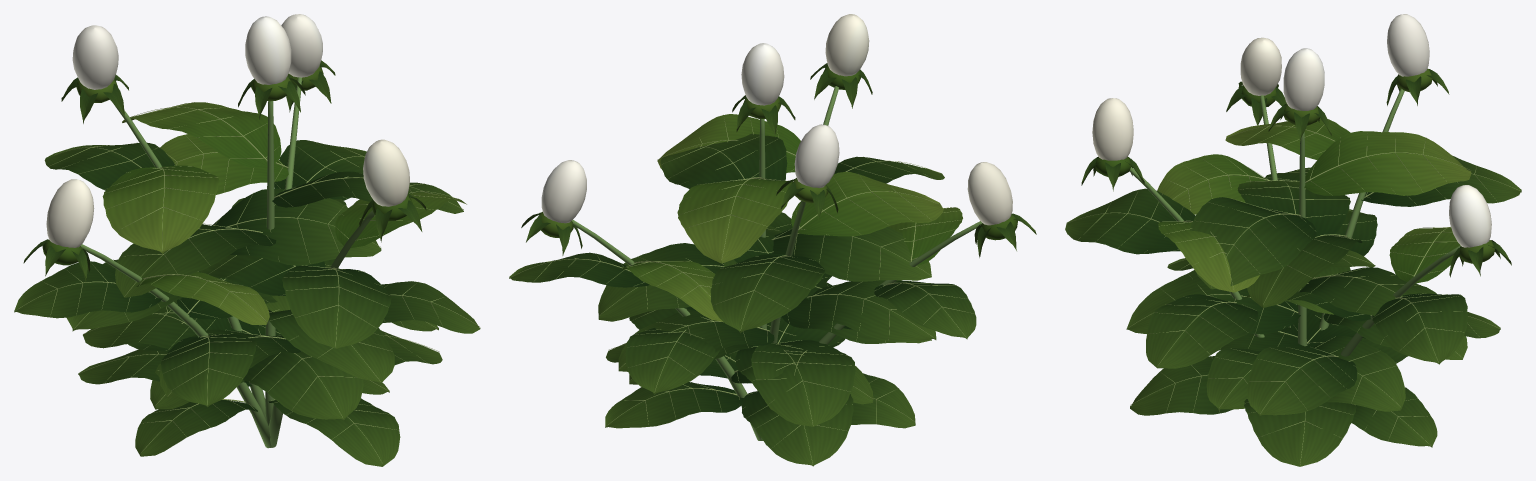
The model's file is daisy-08.glb.
3 views of the same model, side by side, from view 1: azimuth 30°, elevation 25°; view 2: azimuth 150°, elevation 25°; view 3: azimuth 270°, elevation 25° (orthographic). The views are drawn at different scales.
Parts seen in each view (by area): view 1: daisy_stage_08_leaf_veins.014, daisy_stage_08_young_leaf.014, daisy_stage_08_daisy_petal.014, daisy_stage_08_raised_midveins.014, daisy_stage_08_stem_fibres.014; view 2: daisy_stage_08_leaf_veins.014, daisy_stage_08_young_leaf.014, daisy_stage_08_daisy_petal.014, daisy_stage_08_raised_midveins.014, daisy_stage_08_stem_fibres.014; view 3: daisy_stage_08_leaf_veins.014, daisy_stage_08_young_leaf.014, daisy_stage_08_daisy_petal.014, daisy_stage_08_raised_midveins.014, daisy_stage_08_stem_fibres.014.
Boxes of the visible parts, left/top/right/bottom form: daisy_stage_08_leaf_veins.014: left=14, top=60, right=480, bottom=466; daisy_stage_08_young_leaf.014: left=42, top=65, right=466, bottom=324; daisy_stage_08_daisy_petal.014: left=46, top=14, right=409, bottom=247; daisy_stage_08_raised_midveins.014: left=15, top=102, right=480, bottom=463; daisy_stage_08_stem_fibres.014: left=80, top=77, right=374, bottom=448; daisy_stage_08_leaf_veins.014: left=509, top=63, right=1036, bottom=466; daisy_stage_08_young_leaf.014: left=538, top=65, right=1017, bottom=321; daisy_stage_08_daisy_petal.014: left=541, top=14, right=1012, bottom=225; daisy_stage_08_raised_midveins.014: left=510, top=116, right=974, bottom=464; daisy_stage_08_stem_fibres.014: left=572, top=86, right=981, bottom=440; daisy_stage_08_leaf_veins.014: left=1065, top=69, right=1521, bottom=466; daisy_stage_08_young_leaf.014: left=1095, top=68, right=1494, bottom=292; daisy_stage_08_daisy_petal.014: left=1092, top=14, right=1491, bottom=247; daisy_stage_08_raised_midveins.014: left=1067, top=119, right=1519, bottom=465; daisy_stage_08_stem_fibres.014: left=1129, top=88, right=1460, bottom=356.
Bounding box in the file's own units: 0.3561 × 0.3175 × 0.3366.
5 materials, 3 textured.
